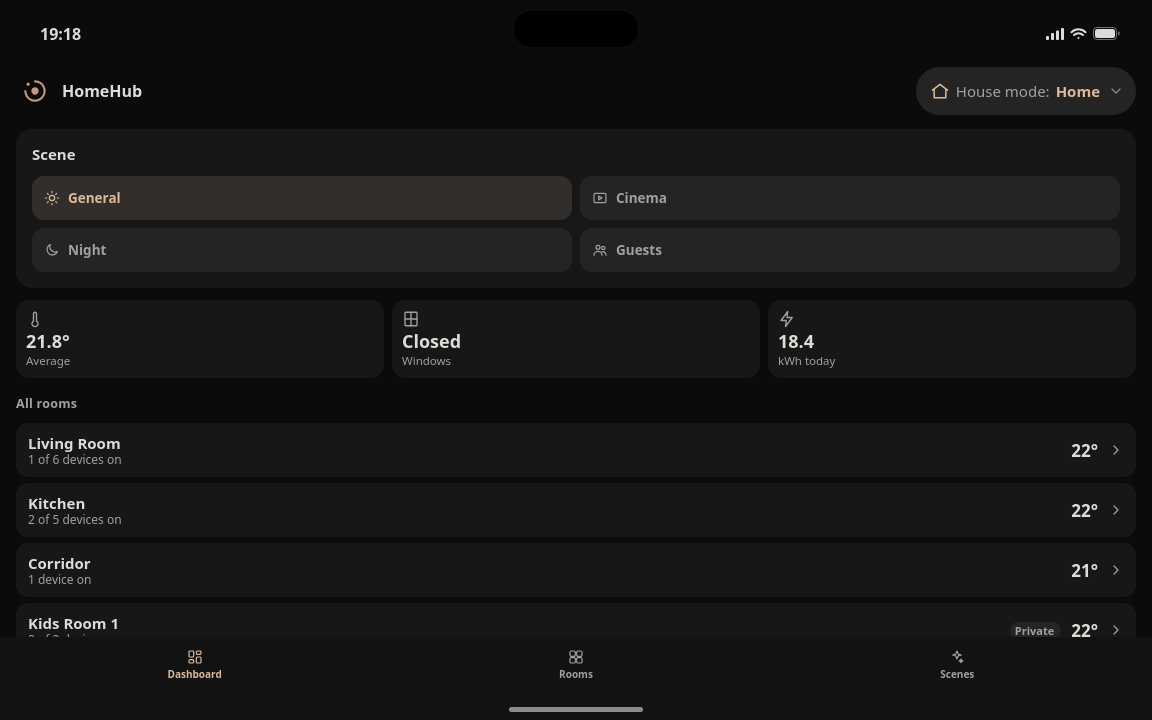
Test: телефон: шапка и экраны › личная комната: кнопка есть, пока свет выключен
The width and height of the screenshot is (1152, 720).
Click the button "Rooms": (576, 664) 385,643 -> 767,686
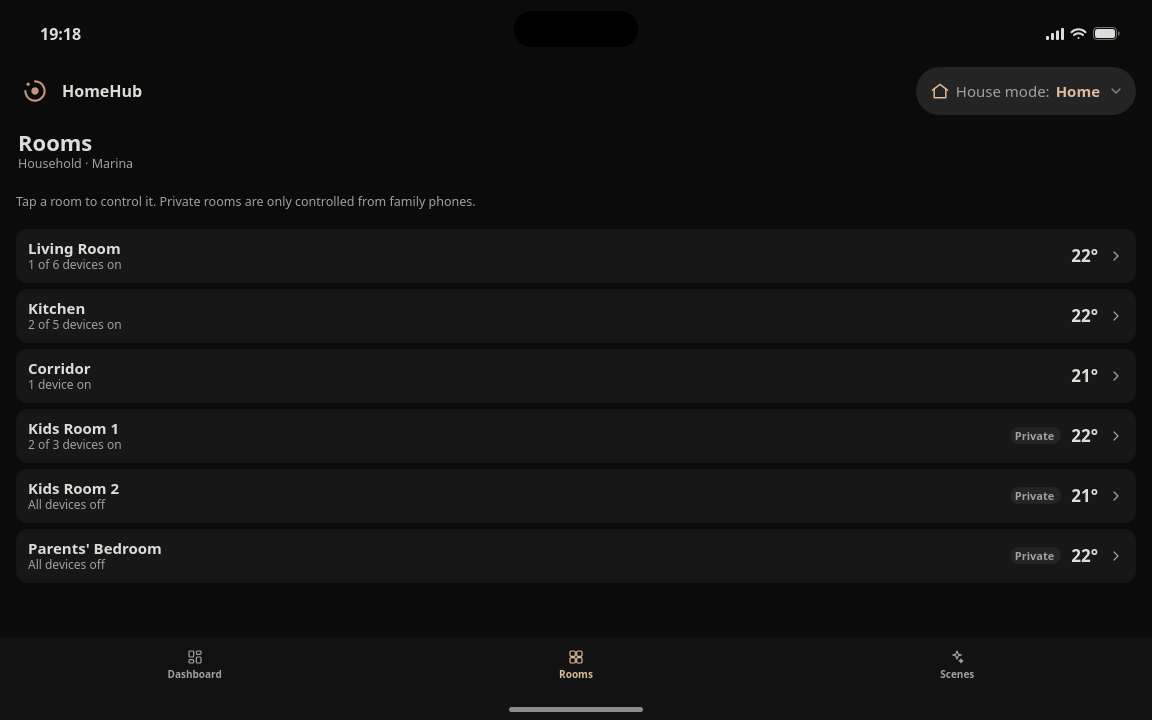
Click the button "Kids Room 2 All devices off Private 21°": (74, 488) 16,468 -> 1136,522
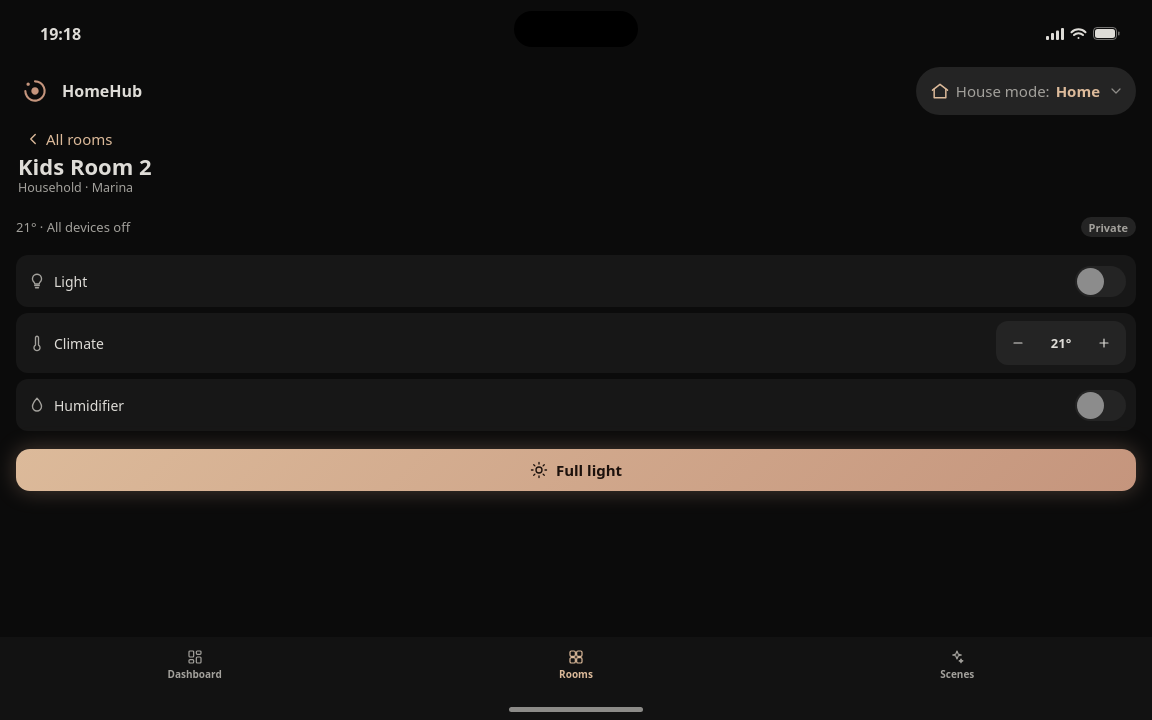
Now the button "Full light" is shown, box 16,449 -> 1136,491
